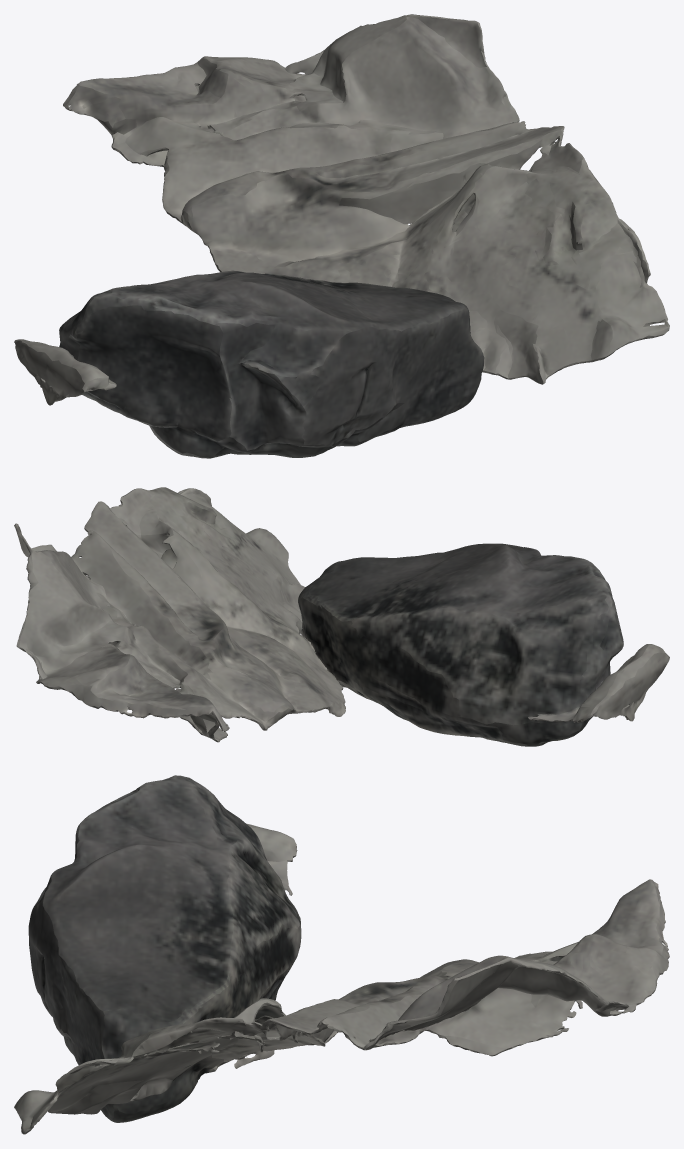
3 renders of one model, top to bottom at view 1: azimuth 30°, elevation 25°; view 2: azimuth 150°, elevation 25°; view 3: azimuth 270°, elevation 25°, orthographic. The views are drawn at different scales.
Parts seen in each view (by area): view 1: world; view 2: world; view 3: world.
Part boxes in pixels (<box>): world: <box>14,14,669,458</box>; world: <box>14,487,669,746</box>; world: <box>14,775,669,1134</box>.
Bounding box in the file's own units: 3.5 × 1.36 × 3.44.
1 material, 1 textured.
